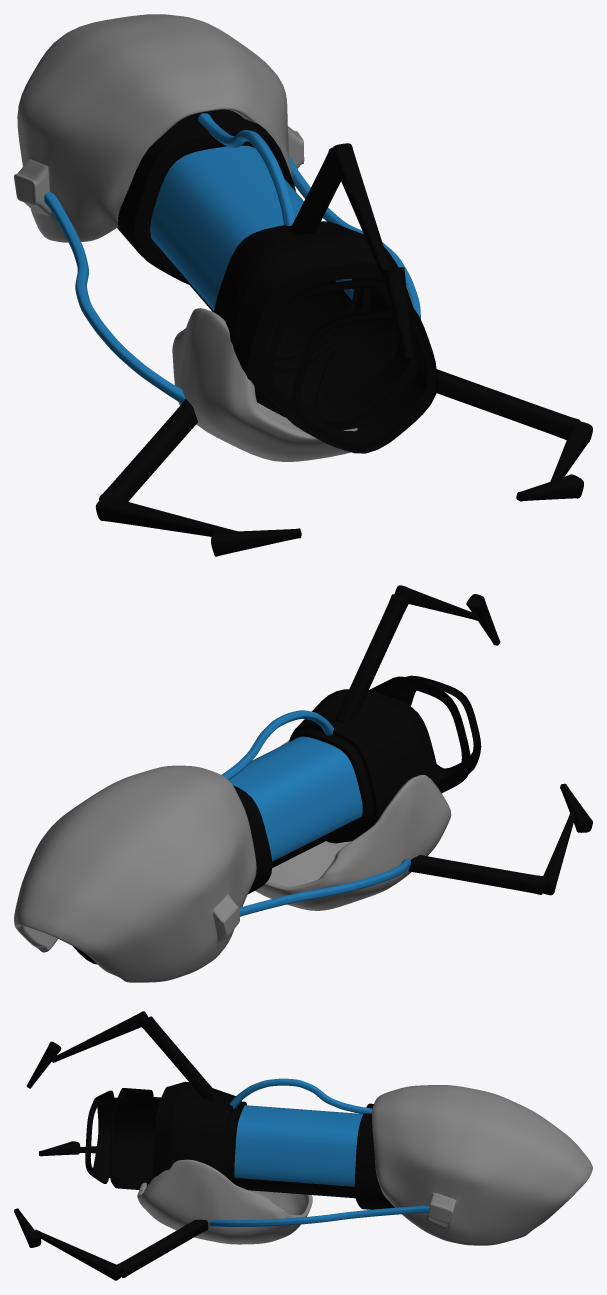
File: potalgun.fbx
3 views of the same model, one above another, from view 1: azimuth 30°, elevation 25°; view 2: azimuth 150°, elevation 25°; view 3: azimuth 270°, elevation 25° (orthographic). The views are drawn at different scales.
Parts seen in each view (by area): view 1: Cube.004; view 2: Cube.004; view 3: Cube.004.
Part boxes in pixels (bbox=[...]): Cube.004: bbox=[14, 14, 592, 556]; Cube.004: bbox=[14, 585, 592, 982]; Cube.004: bbox=[14, 1011, 592, 1280].
Size of the model in its own units: 190 by 145 by 351.
